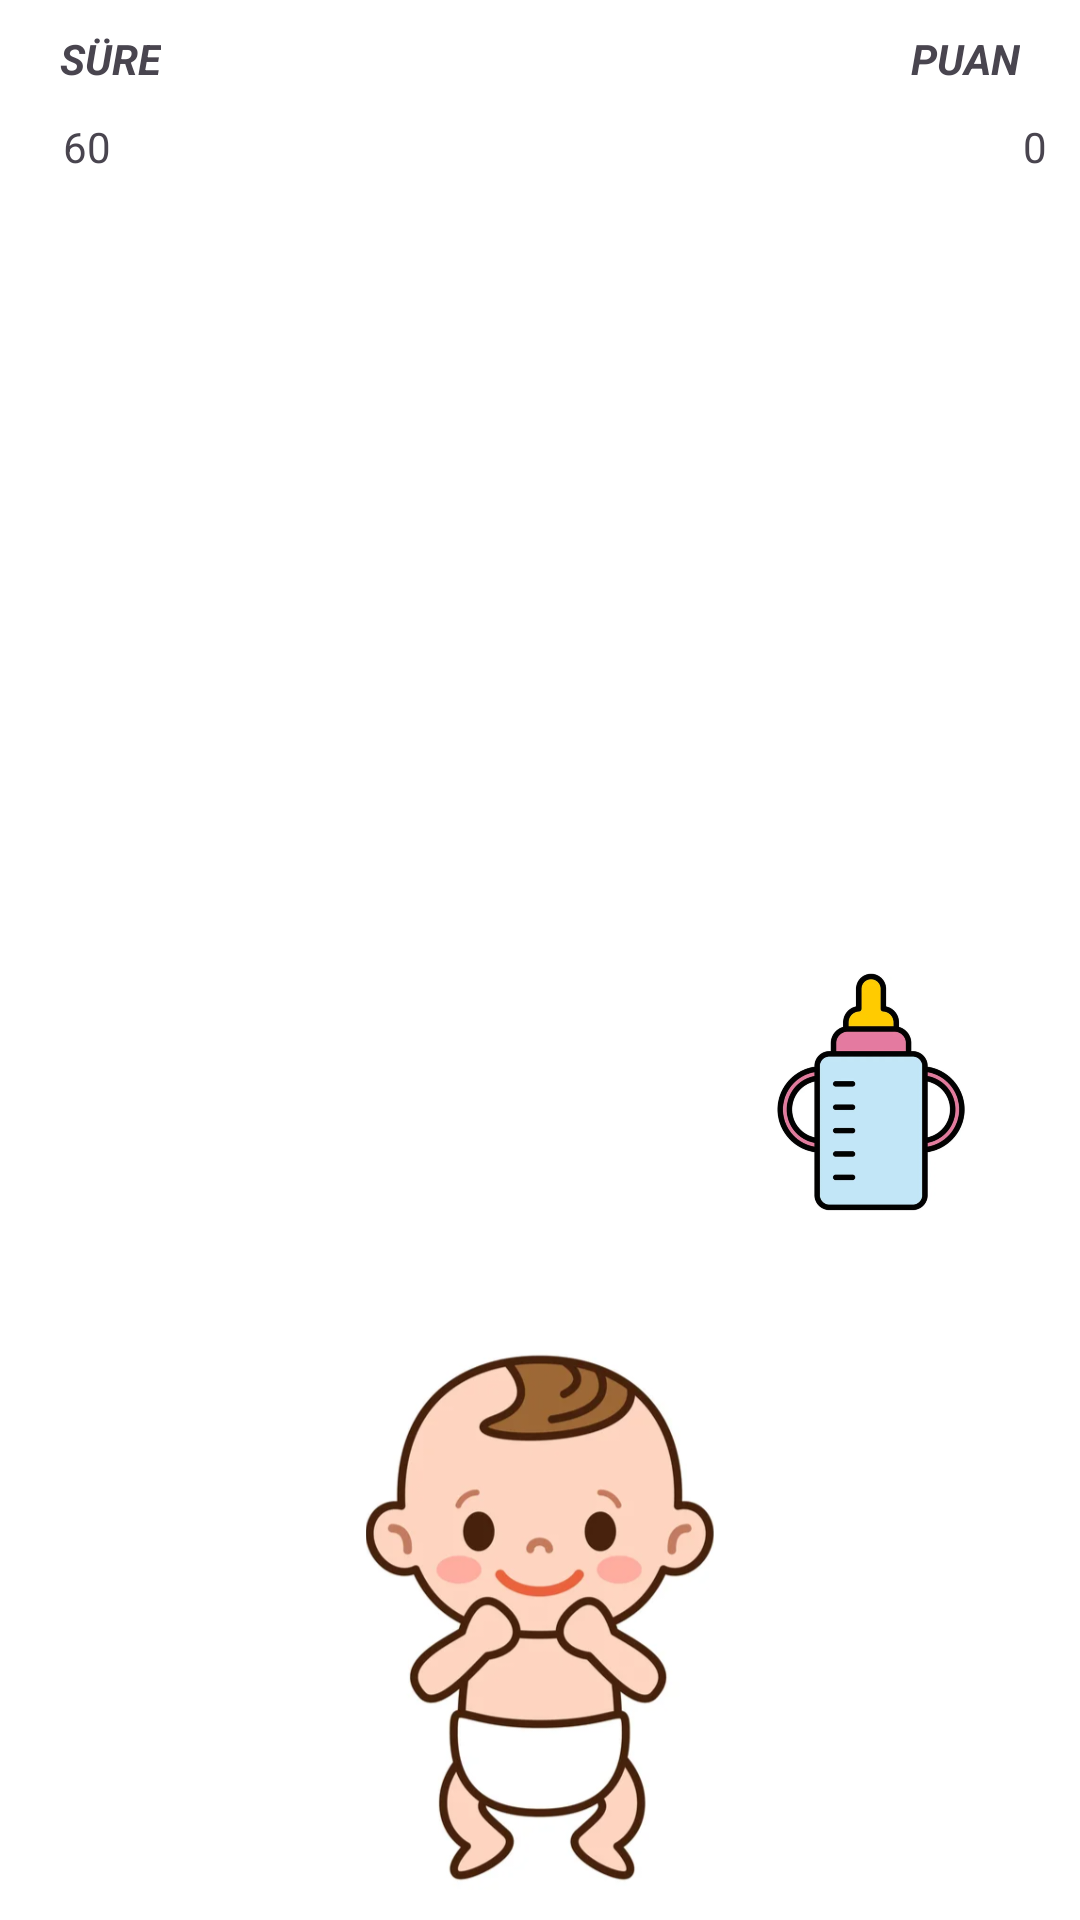

Where to tap for icons on this 1080 x 1920 app screen, as (x=x, y=y):
baby milk: (x=871, y=1092)
